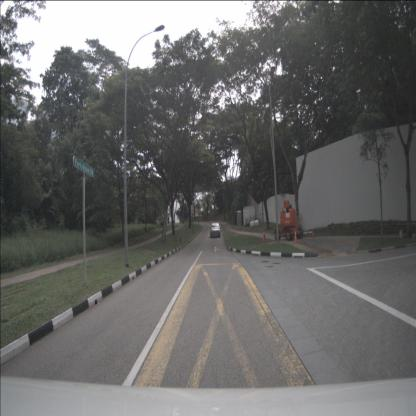movable_object-trafficcone: (311, 228, 315, 238), (294, 230, 297, 242), (262, 231, 264, 240)
vehicle-car: (210, 222, 220, 238)
